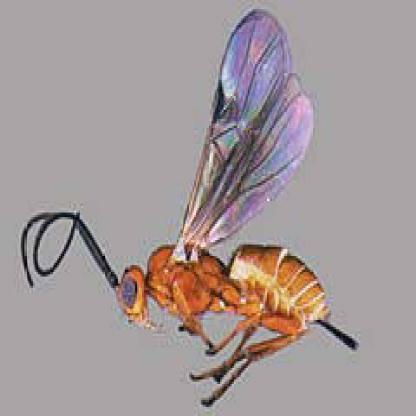sawfly: (15, 5, 357, 412)
